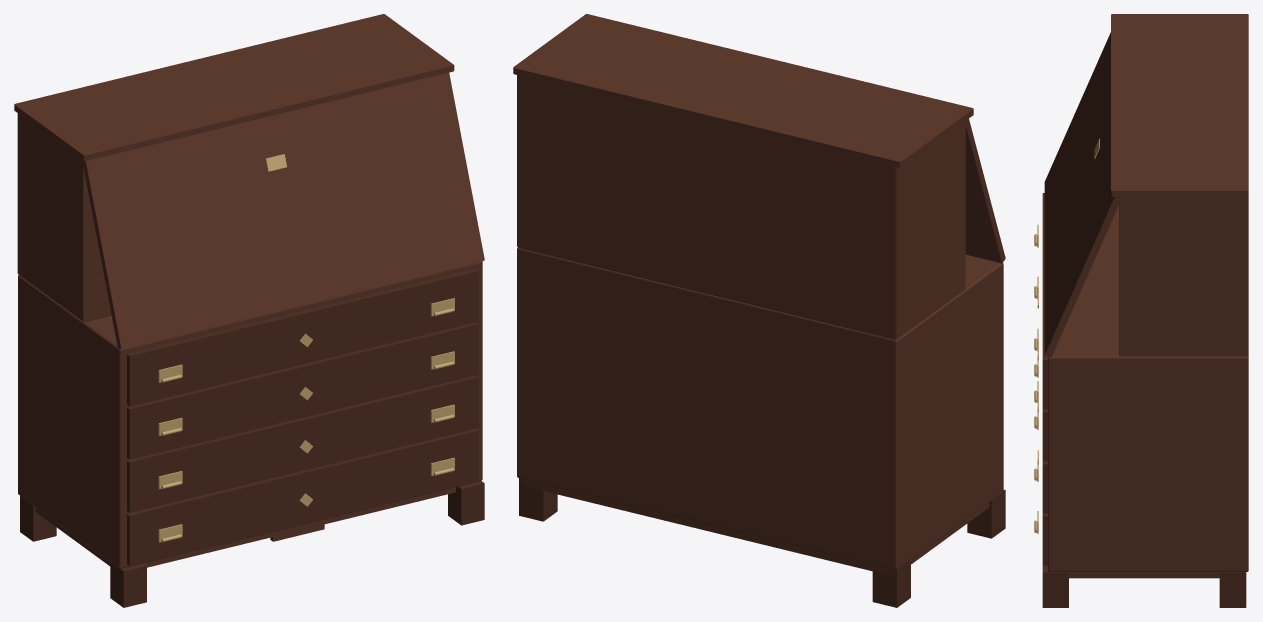
Rendered from secretary_desk_candidate.glb.
3 renders of one model, left to right at view 1: azimuth 30°, elevation 25°; view 2: azimuth 150°, elevation 25°; view 3: azimuth 270°, elevation 25°, orthographic. The views are drawn at different scales.
Parts seen in each view (by area): view 1: Cube.017, Cube.020, Cube, Cube.009, Cube.013, Cube.001, Cube.005, Cube.019, Cube.021, Cube.023, Cube.025, Cube.024; view 2: Cube, Cube.019, Cube.020, Cube.021, Cube.017, Cube.024, Cube.026, Cube.023; view 3: Cube, Cube.020, Cube.019, Cube.017, Cube.021, Cube.025, Cube.026, Cube.013, Cube.005, Cube.001, Cube.009.
Part boxes in pixels (x1=…): Cube.017: x1=82, y1=72, x2=484, y2=348; Cube.020: x1=14, y1=14, x2=454, y2=161; Cube: x1=18, y1=261, x2=482, y2=568; Cube.009: x1=127, y1=322, x2=478, y2=459; Cube.013: x1=127, y1=269, x2=478, y2=406; Cube.001: x1=127, y1=428, x2=478, y2=565; Cube.005: x1=127, y1=375, x2=478, y2=512; Cube.019: x1=17, y1=113, x2=111, y2=321; Cube.021: x1=35, y1=487, x2=455, y2=567; Cube.023: x1=110, y1=562, x2=146, y2=607; Cube.025: x1=448, y1=481, x2=484, y2=525; Cube.024: x1=20, y1=496, x2=56, y2=541; Cube: x1=517, y1=247, x2=1003, y2=569; Cube.019: x1=517, y1=70, x2=965, y2=339; Cube.020: x1=513, y1=14, x2=973, y2=168; Cube.021: x1=522, y1=479, x2=989, y2=575; Cube.017: x1=965, y1=119, x2=1005, y2=263; Cube.024: x1=872, y1=560, x2=910, y2=607; Cube.026: x1=519, y1=478, x2=557, y2=521; Cube.023: x1=967, y1=489, x2=1005, y2=538; Cube: x1=1048, y1=205, x2=1248, y2=571; Cube.020: x1=1111, y1=14, x2=1248, y2=196; Cube.019: x1=1119, y1=107, x2=1248, y2=356; Cube.017: x1=1044, y1=32, x2=1121, y2=357; Cube.021: x1=1069, y1=572, x2=1219, y2=578; Cube.025: x1=1042, y1=565, x2=1068, y2=607; Cube.026: x1=1219, y1=572, x2=1246, y2=607; Cube.013: x1=1042, y1=193, x2=1047, y2=409; Cube.005: x1=1042, y1=461, x2=1047, y2=513; Cube.001: x1=1042, y1=513, x2=1047, y2=565; Cube.009: x1=1042, y1=409, x2=1047, y2=461.
Bounding box in the file's own units: 0.9662 × 1.07 × 0.495.
